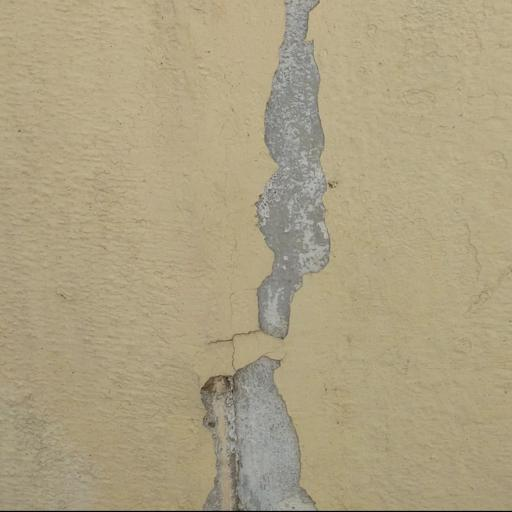peeling: (188, 0, 360, 512)
